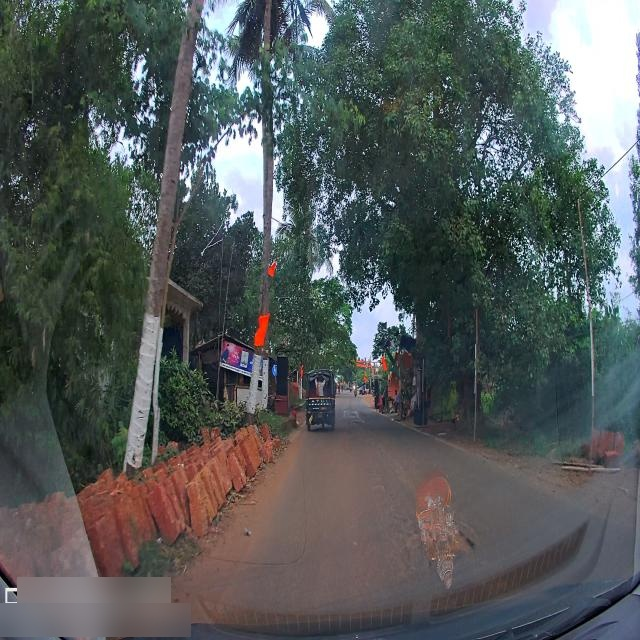pothole: (403, 525, 430, 572), (455, 529, 472, 552)
